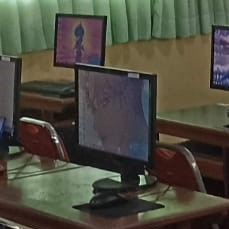monitor: (72, 63, 158, 186), (53, 13, 107, 69), (208, 25, 228, 92)
